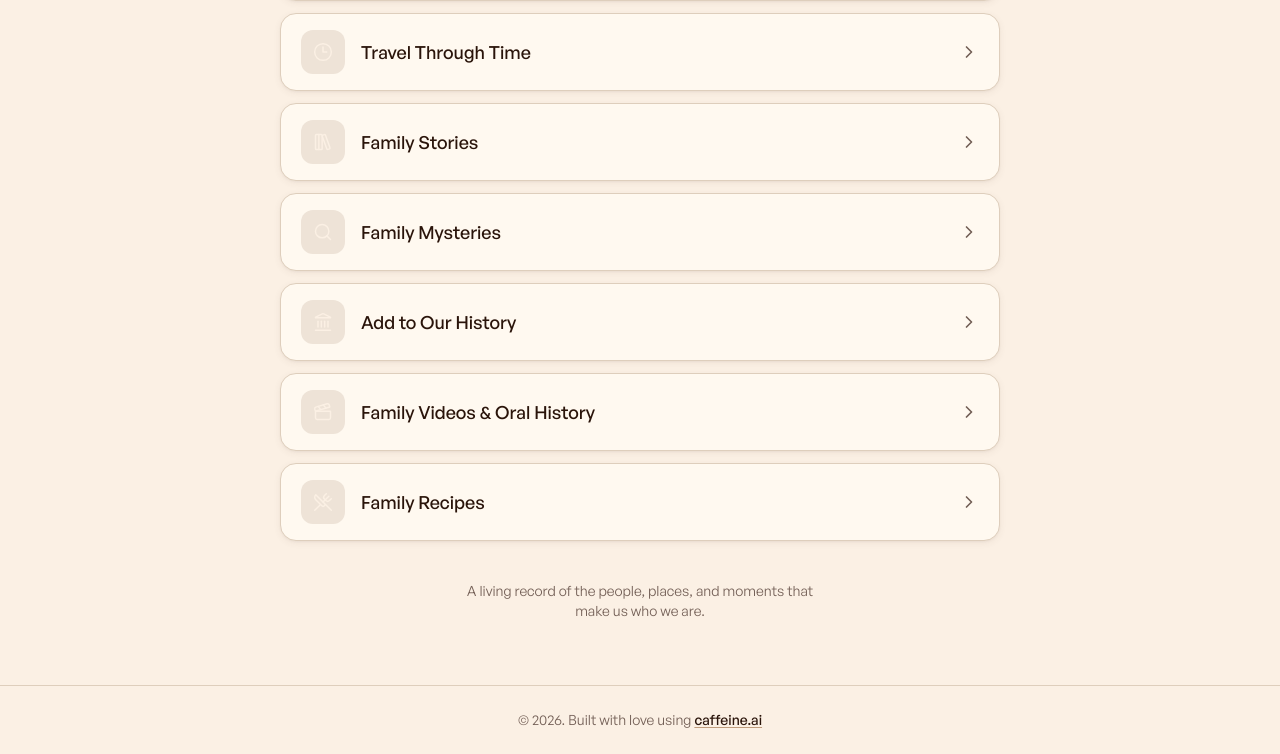
Scenario: Archive contribution: anonymous sign-in gate › prompts an anonymous user to sign in before contributing
The width and height of the screenshot is (1280, 754).
(page scrolled)
What coordinates should you click on to do the following:
click the button "Add to Our History"
I would click on:
 (323, 322)
Its box is x1=280 y1=283 x2=1000 y2=361.
(page scrolled)
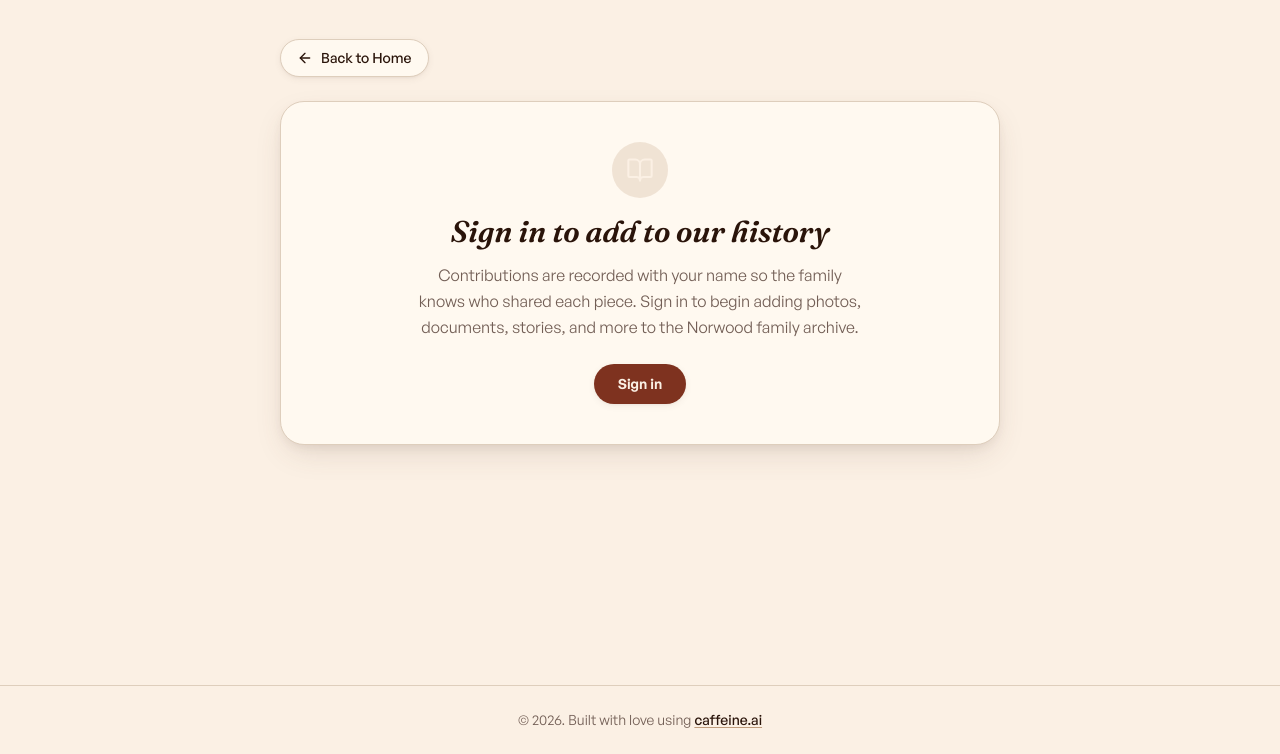
Result: the heading "Sign in to add to our history" is shown at x1=450 y1=213 x2=830 y2=250
Result: the button with test id "archive.signin.primary_button" is shown at x1=594 y1=364 x2=686 y2=404
